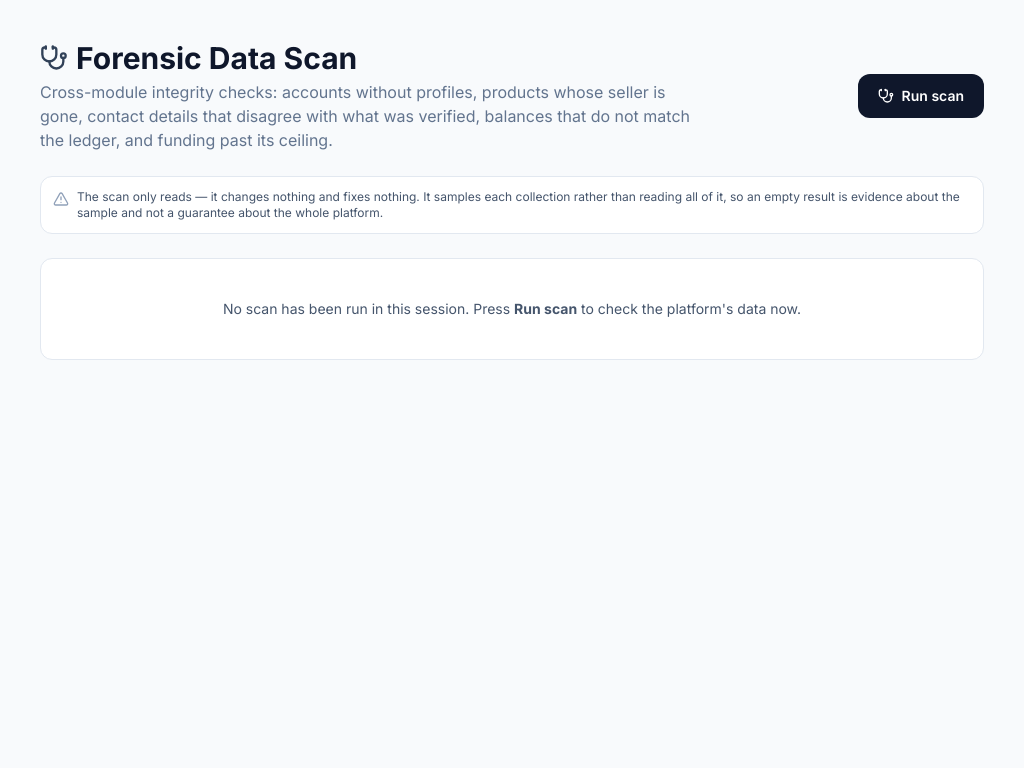
Scenario: #266 — what it shows when the scan does run › and the worst findings are listed first
The image size is (1024, 768).
Click the button "Run scan" at (921, 96), box x1=858 y1=74 x2=984 y2=118
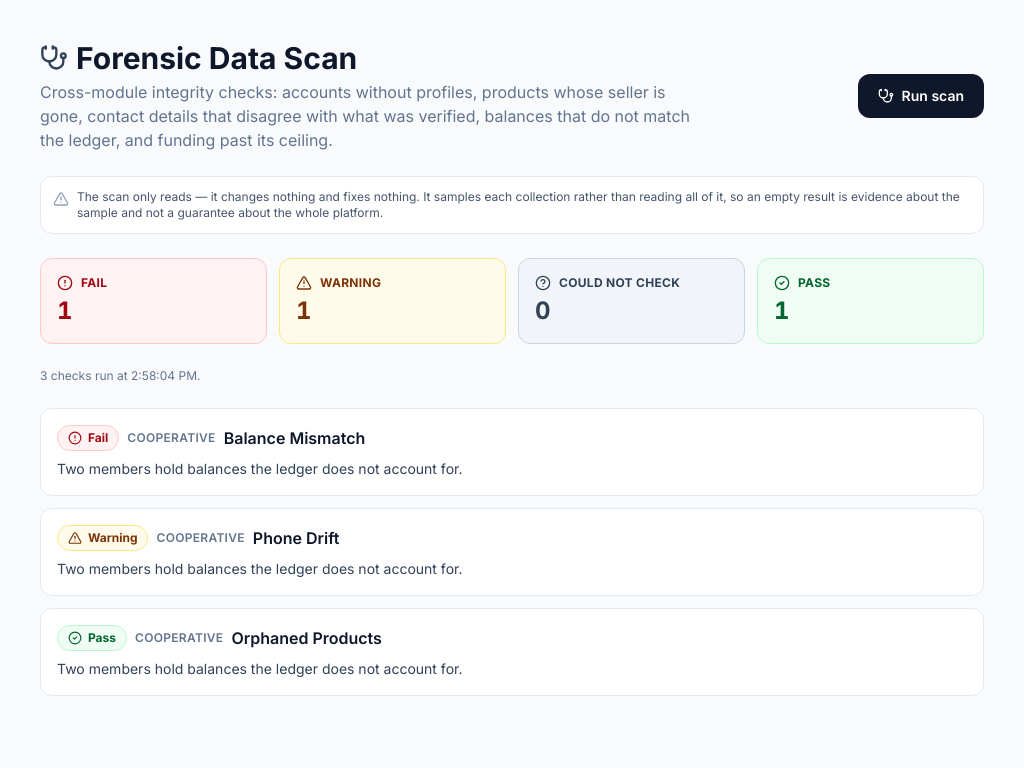
Result: the text "Balance Mismatch" is shown at x1=224 y1=426 x2=365 y2=450
